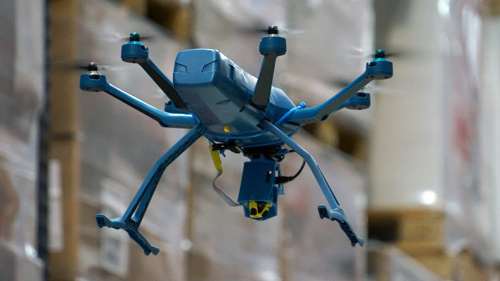drone: (56, 23, 427, 258)
